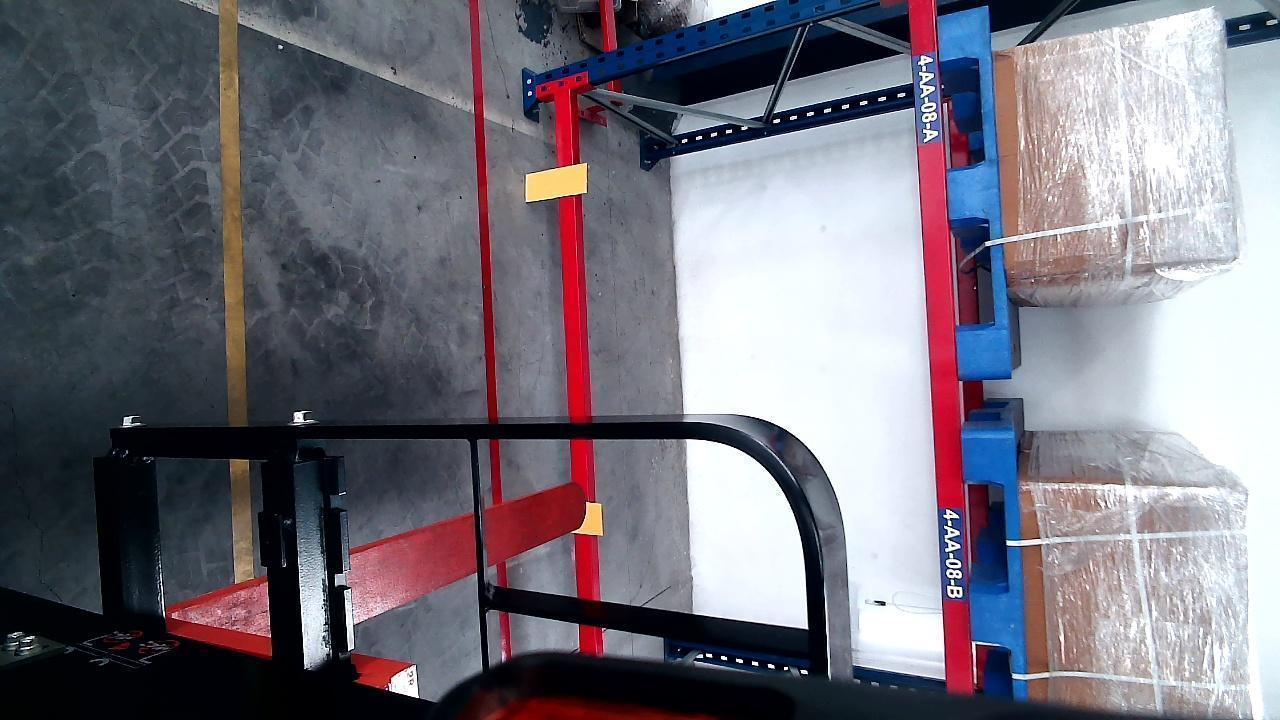red_line: (471, 7, 497, 419)
yellow_line: (220, 1, 256, 582)
